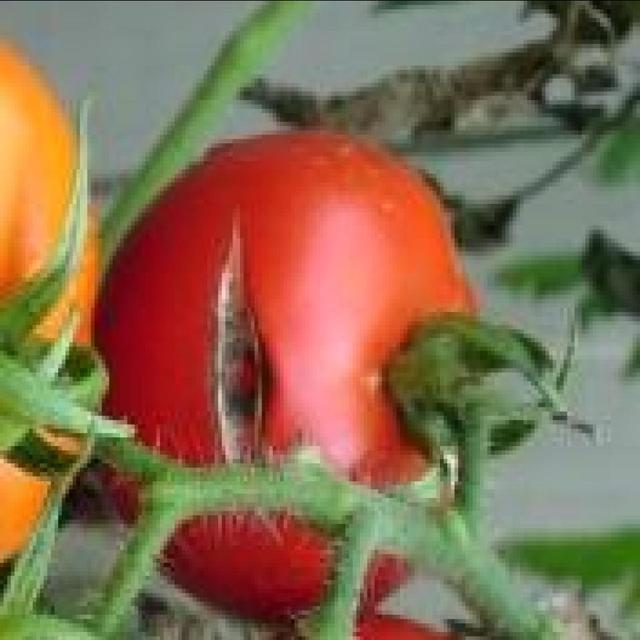Cracking Fruit: (139, 130, 196, 369)
